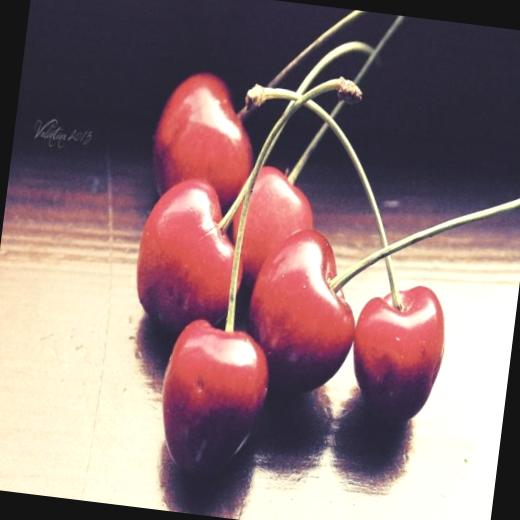Apple: (148, 71, 266, 202)
